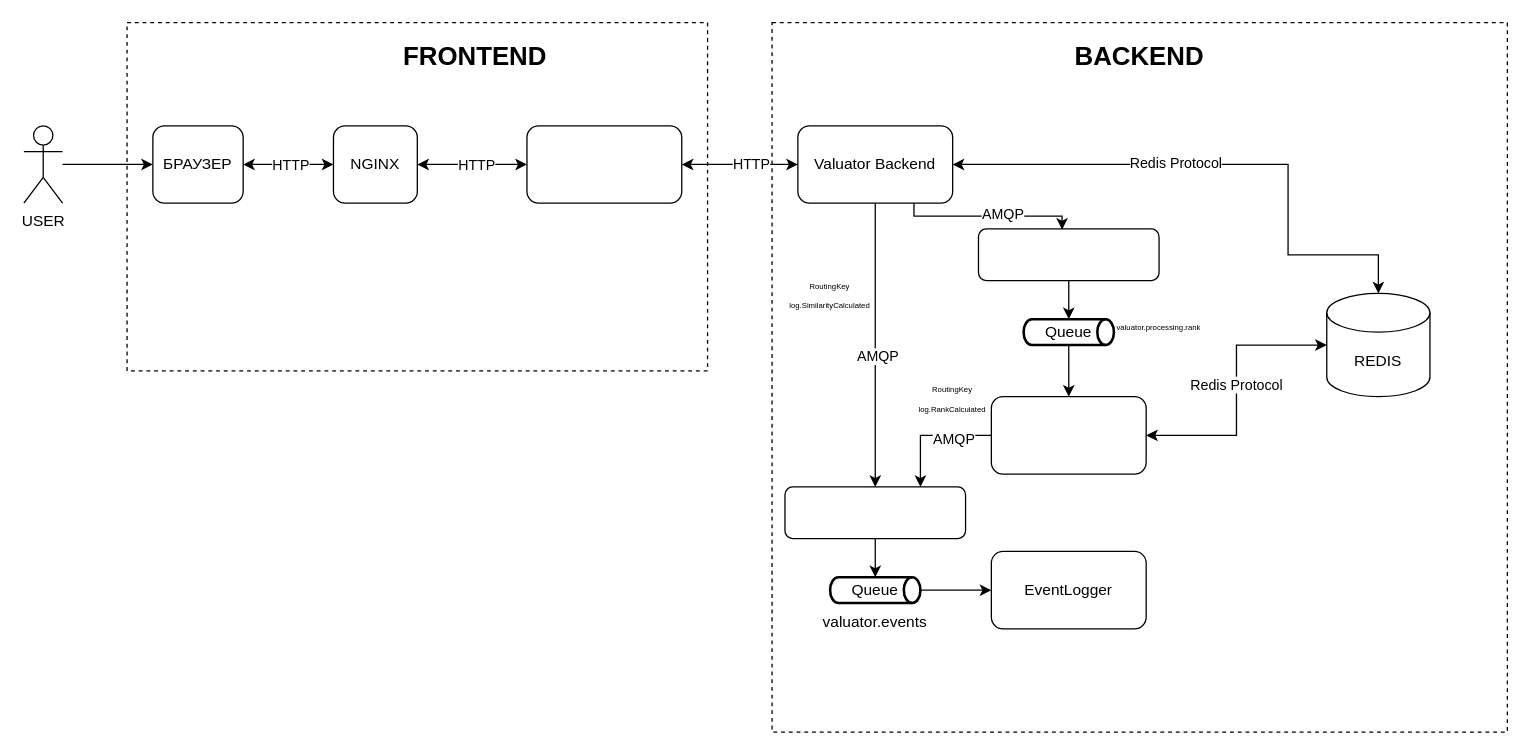
This 1530x755 diagram has some shape labels left out. The centre of each missing label's shape, as x and y in pixels:
"Exchange (FANOUT) valuator.processing.rank" belongs at point (1068, 254).
"Exchange (TOPIC) event" belongs at point (875, 512).
"RankCalculator" belongs at point (1068, 434).
"Valuator Frontend" belongs at point (604, 163).
